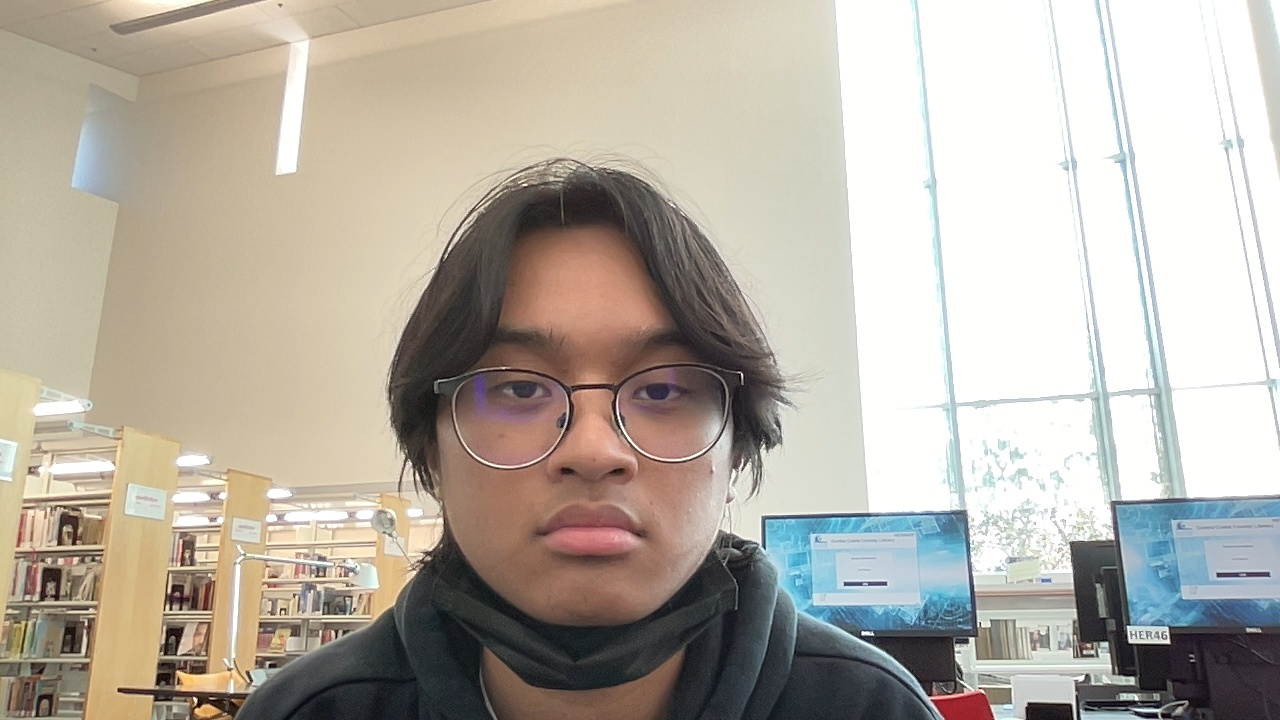neutral: (424, 219, 745, 631)
